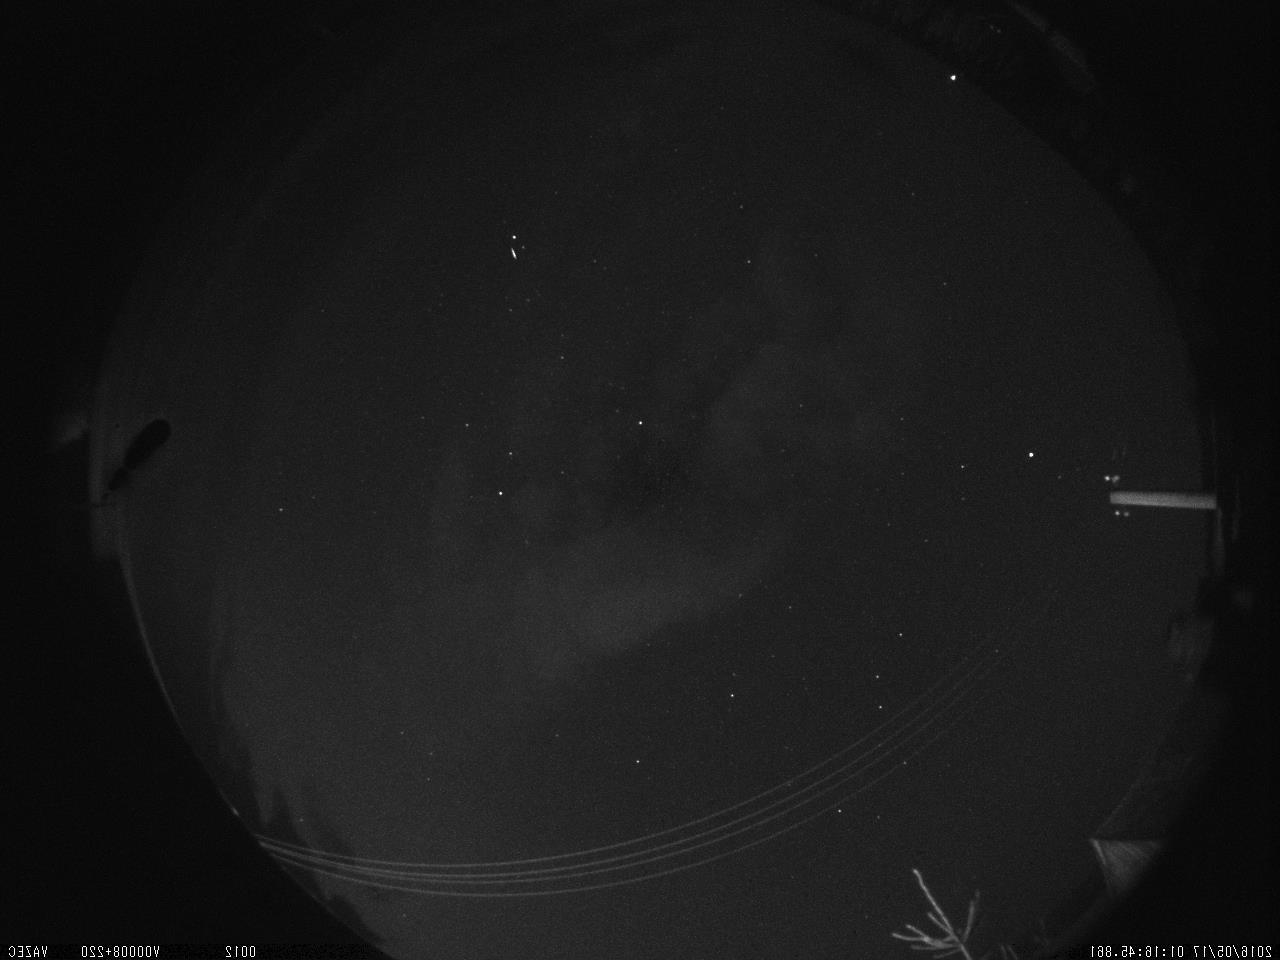meteor: (503, 242, 521, 266)
